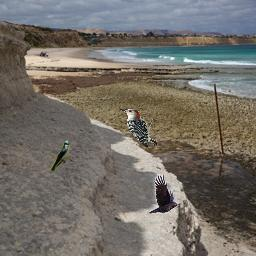Crow: (149, 174, 179, 214)
Swallow: (50, 140, 70, 172)
Woodpecker: (118, 108, 157, 148)
